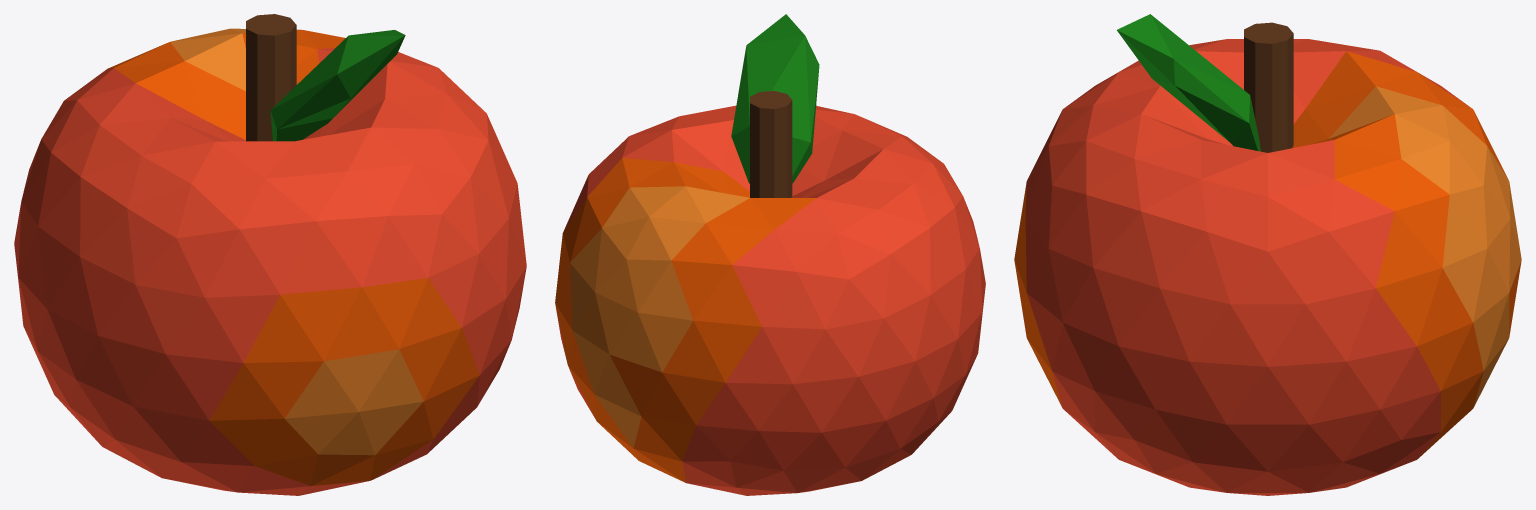
Rendered from Apple_v.1.7.fbx.
3 views of the same model, side by side, from view 1: azimuth 30°, elevation 25°; view 2: azimuth 150°, elevation 25°; view 3: azimuth 270°, elevation 25° (orthographic). The views are drawn at different scales.
Visible parts, largest first — view 1: Icosphere; view 2: Icosphere; view 3: Icosphere.
Boxes of the visible parts, x1,y1,x2,y2 form: Icosphere: (14,14,526,495); Icosphere: (555,14,985,495); Icosphere: (1014,14,1521,495).
Size of the model in its own units: 200 by 195 by 200.
